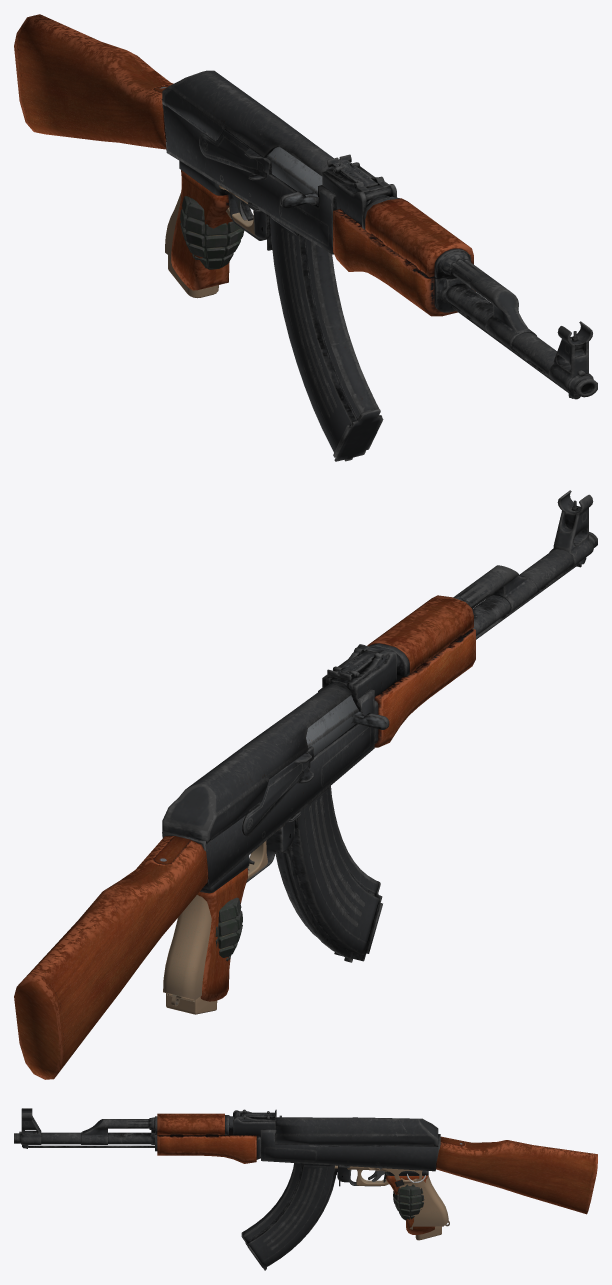
The picture shows the model from 3 angles, top to bottom: view 1: azimuth 30°, elevation 25°; view 2: azimuth 150°, elevation 25°; view 3: azimuth 270°, elevation 25°; orthographic projection. The views are drawn at different scales.
Visible parts, largest first — view 1: ak47, hand_granade_mesh, glock_mesh; view 2: ak47, glock_mesh, hand_granade_mesh; view 3: ak47, glock_mesh, hand_granade_mesh.
Boxes of the visible parts, bbox=[...] form: ak47: bbox=[14, 14, 597, 461]; hand_granade_mesh: bbox=[180, 196, 244, 269]; glock_mesh: bbox=[165, 185, 256, 298]; ak47: bbox=[14, 490, 597, 1079]; glock_mesh: bbox=[163, 825, 284, 1014]; hand_granade_mesh: bbox=[215, 897, 242, 961]; ak47: bbox=[14, 1108, 597, 1270]; glock_mesh: bbox=[334, 1165, 449, 1240]; hand_granade_mesh: bbox=[393, 1173, 425, 1220].
Size of the model in its own units: 0.0977 by 0.3389 by 1.13.
Materials: 5 (5 with a texture image).
